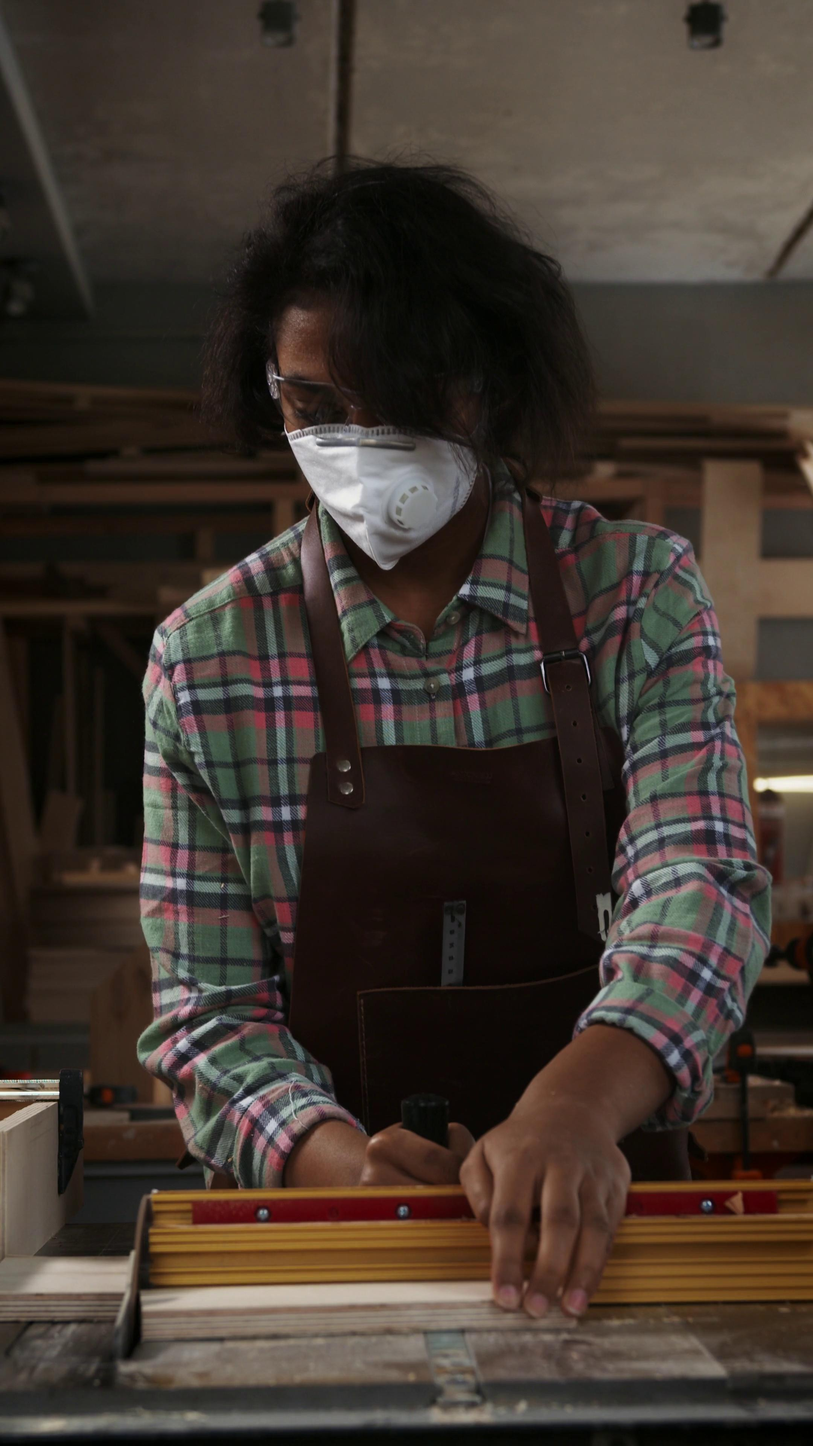mask: (281, 421, 481, 570)
person: (131, 161, 774, 1321)
